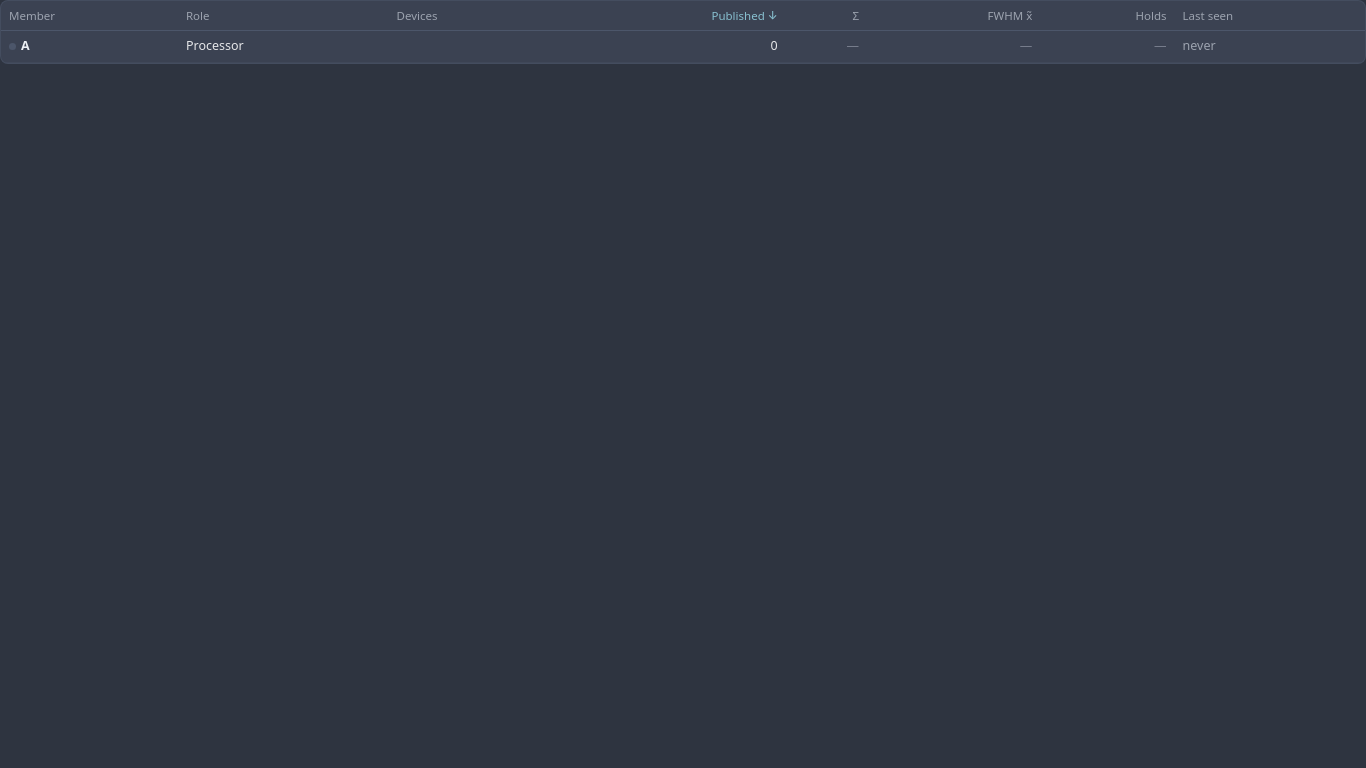
Scenario: MembersTab — mockup table › a panel without published frames says so
Click the text "A": point(25, 47) [21, 37, 30, 56]
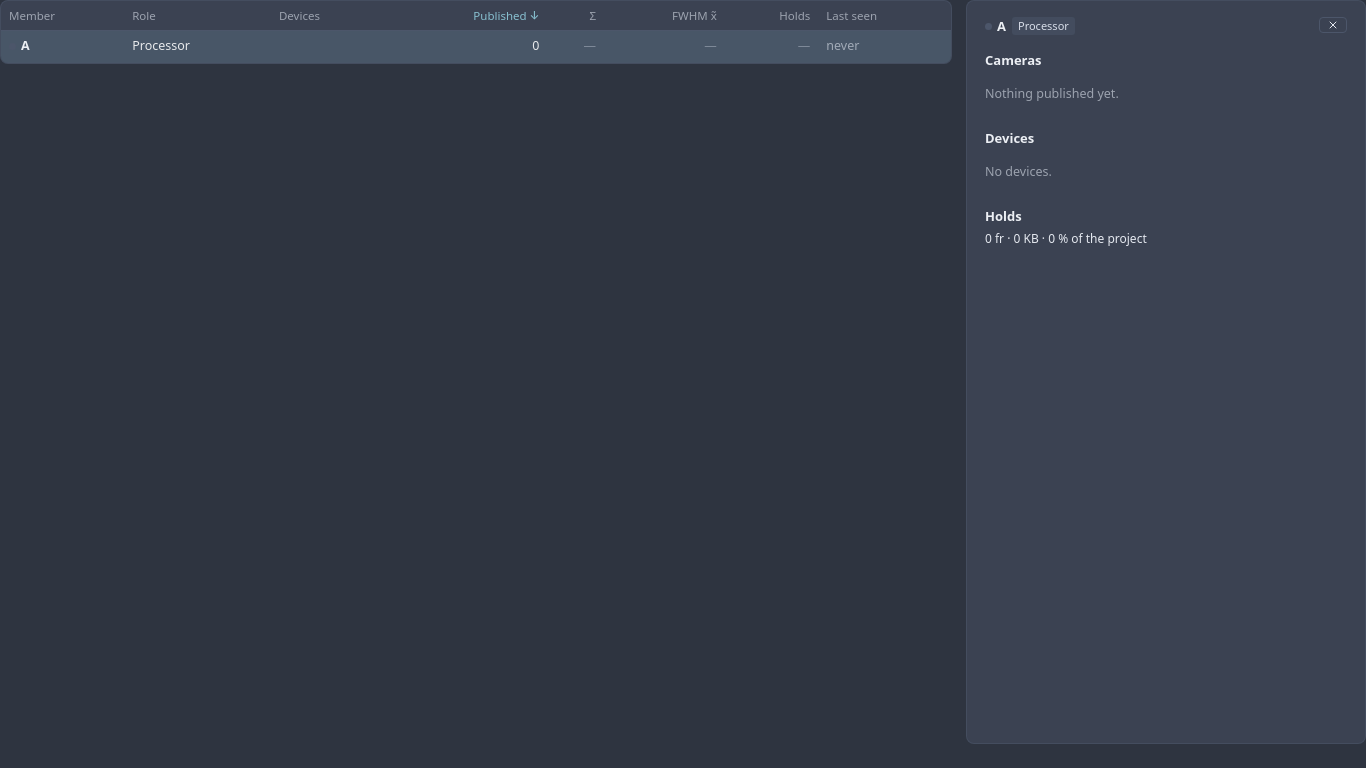
Check: the text "Nothing published yet." is shown, box [985, 85, 1119, 102]
